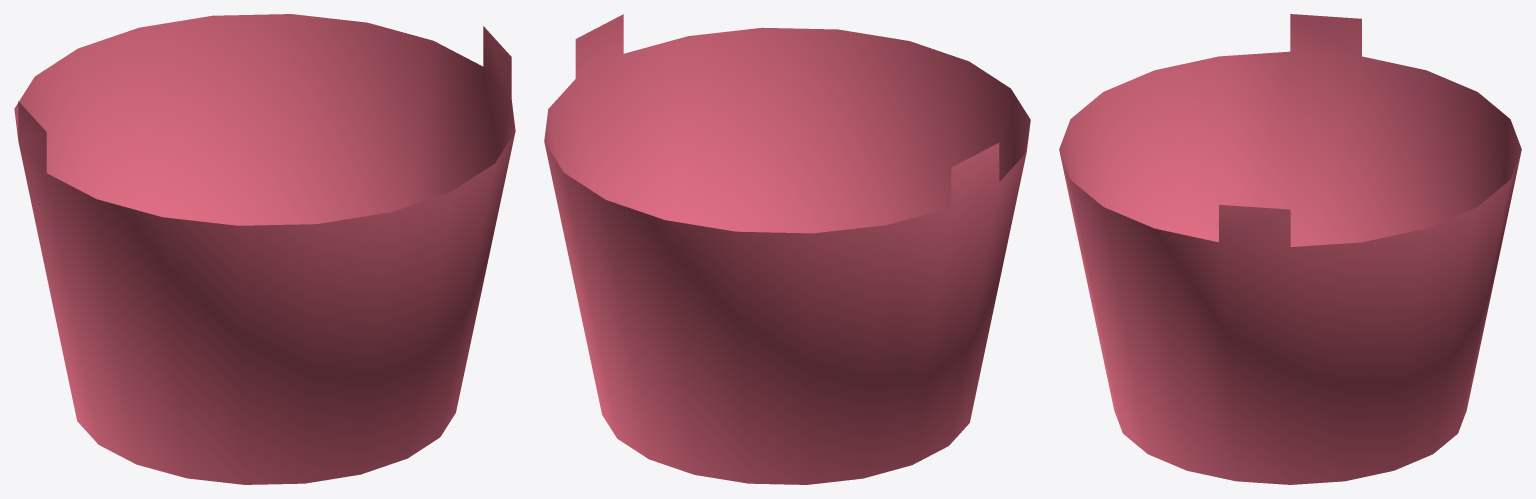
File: basket.glb
3 renders of one model, left to right at view 1: azimuth 30°, elevation 25°; view 2: azimuth 150°, elevation 25°; view 3: azimuth 270°, elevation 25°, orthographic. The views are drawn at different scales.
Visible parts, largest first — view 1: Cylinder; view 2: Cylinder; view 3: Cylinder.
Boxes of the visible parts, x1,y1,x2,y2 form: Cylinder: (14,14,515,484); Cylinder: (544,14,1030,484); Cylinder: (1059,14,1521,484).
Bounding box in the file's own units: 1.08 × 0.7666 × 1.08.
